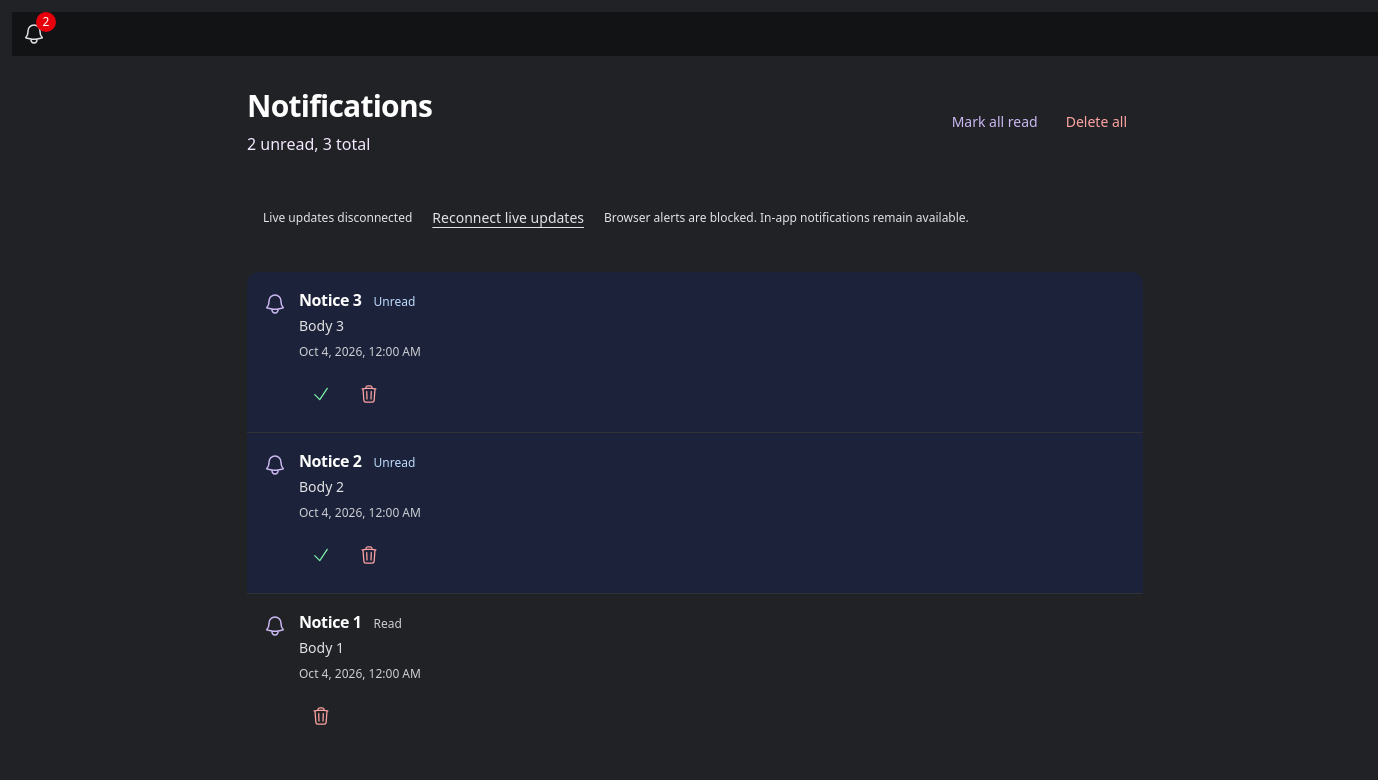
Test: canonical notification synchronization › updates both surfaces after a confirmed read without a self hub event
Expected: the heading "Notice 3" is shown, [299,288,362,312]
Click the button named "Mark as read" below "Body 3" at (321, 394), box [299,372,343,416]
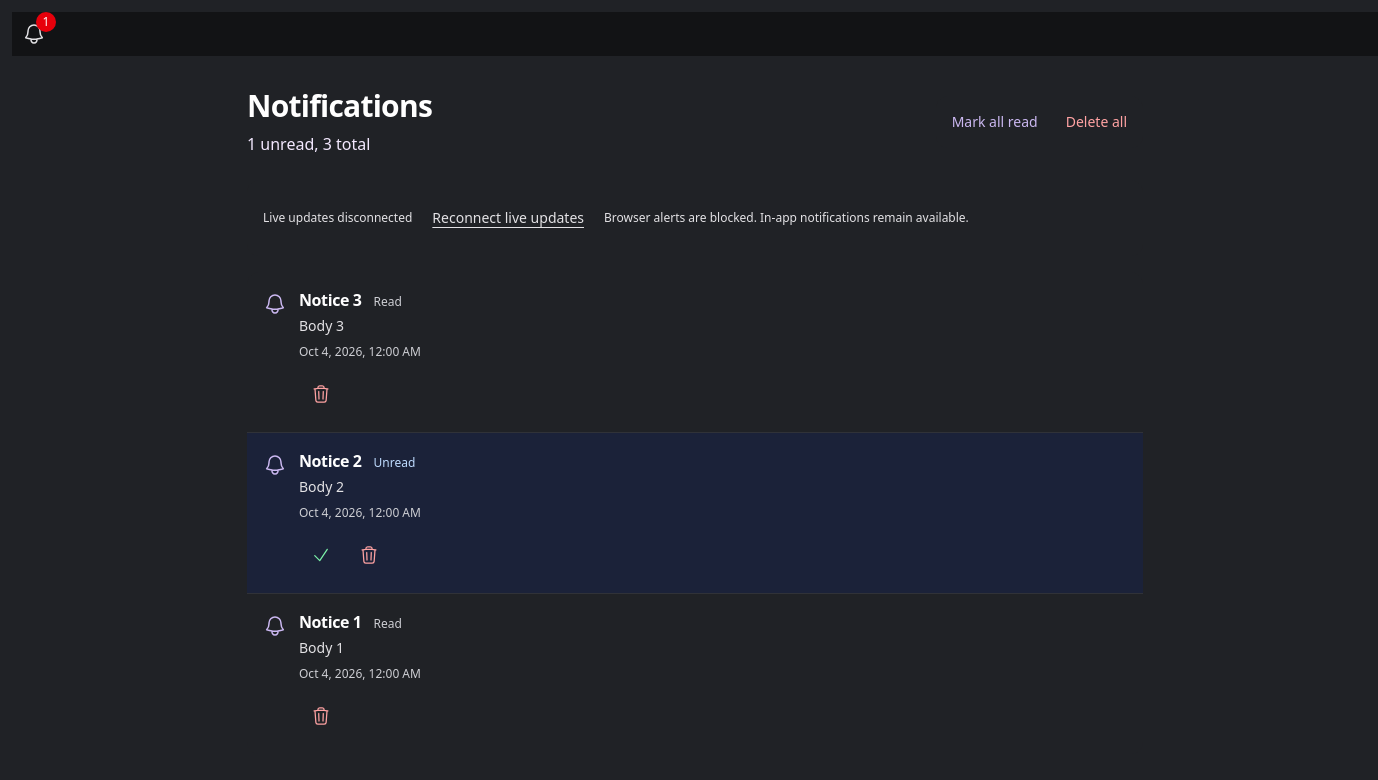
Now the button named "Notifications" reads "1"
Click the button named "Notifications" at (34, 34), box [12,12,56,56]
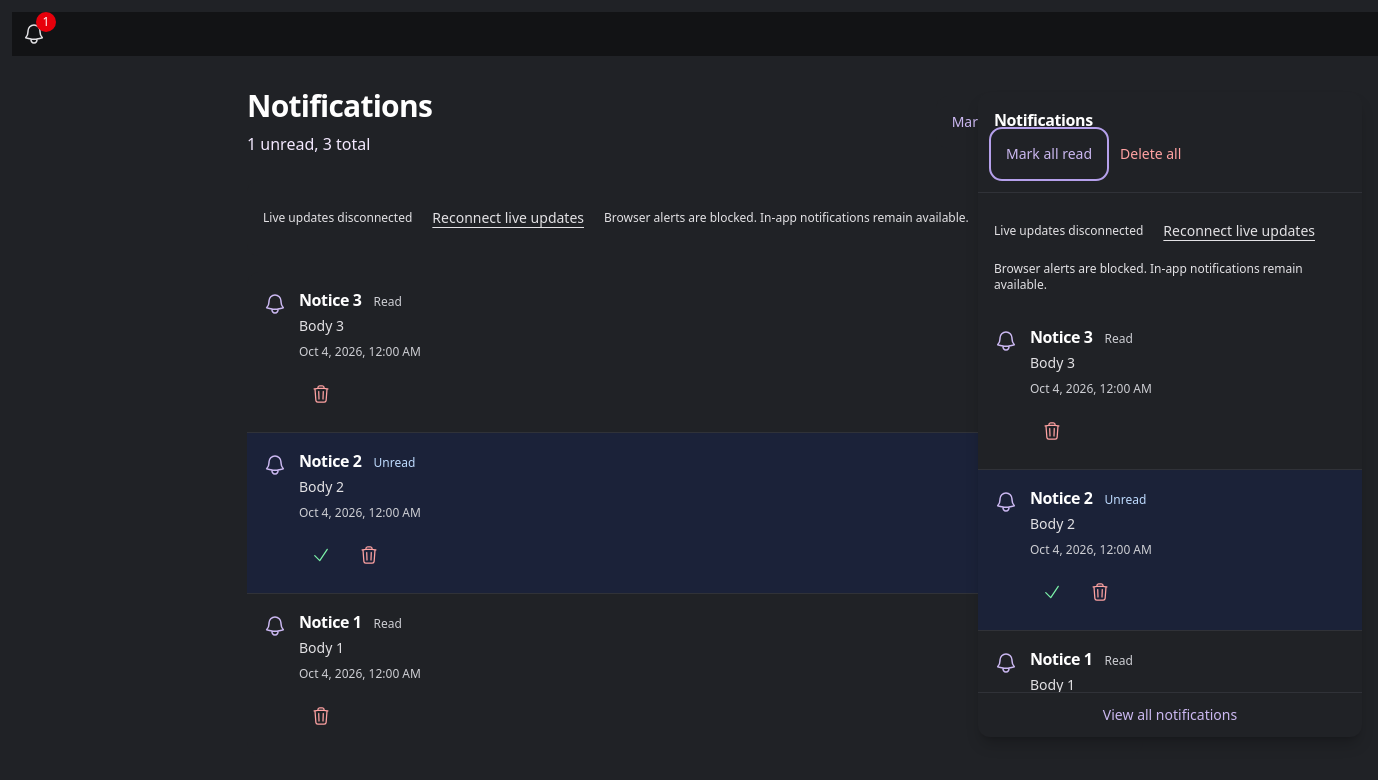
Now the number of headings "Notice 3" is 2, box [299,288,362,312]; [1030,325,1092,349]
